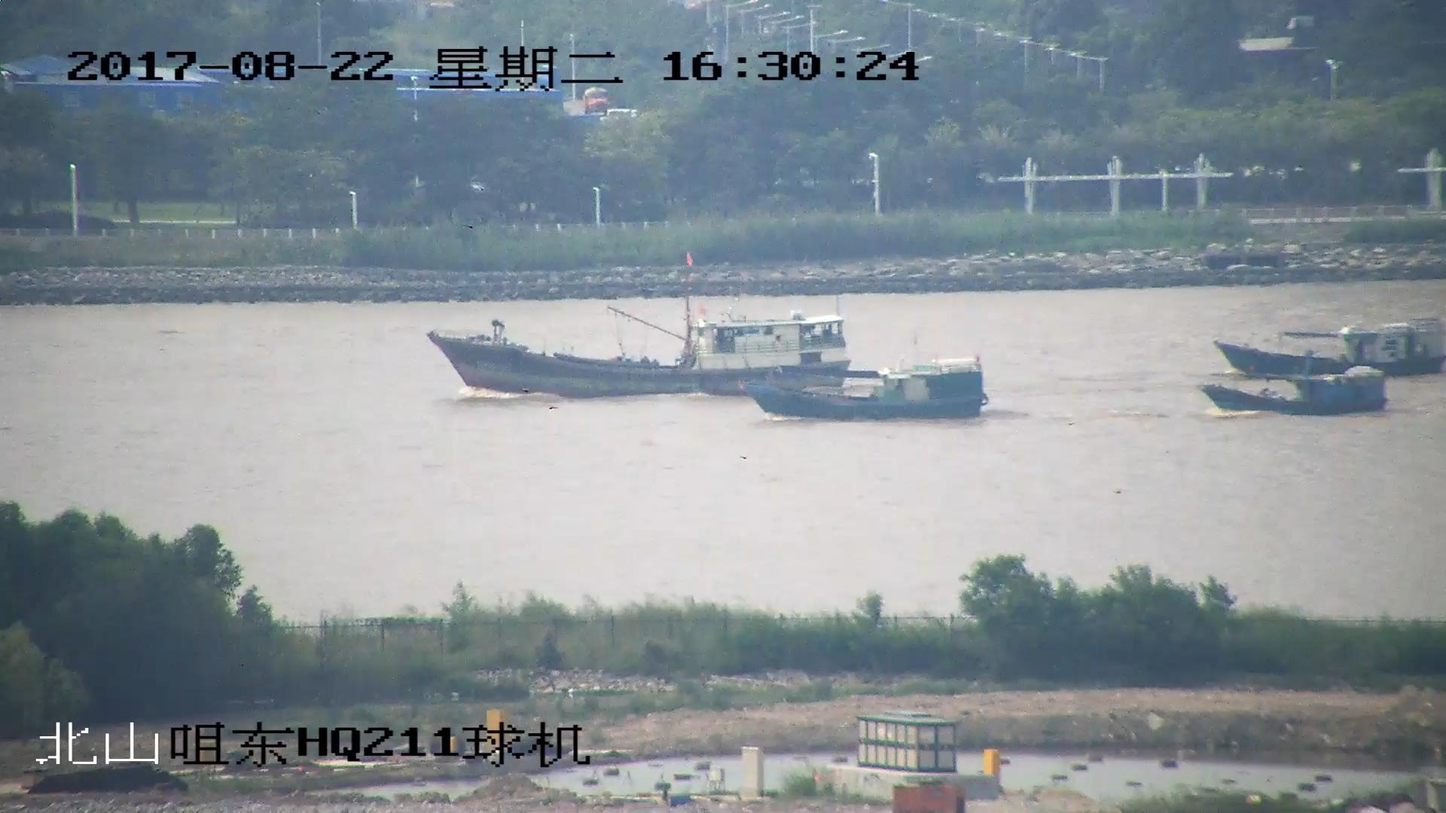fishing boat: (427, 251, 848, 394), (747, 354, 979, 420), (1219, 318, 1445, 376), (1203, 367, 1383, 413)
